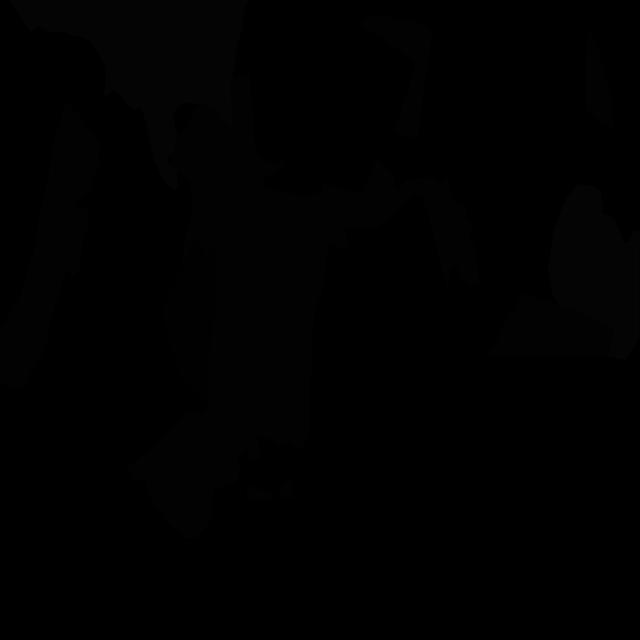cardboard: (127, 184, 334, 539), (0, 103, 101, 390), (166, 73, 286, 268), (320, 159, 480, 290), (358, 15, 432, 139), (488, 292, 614, 358), (585, 29, 614, 129), (64, 207, 89, 278), (246, 485, 271, 502), (279, 481, 294, 499)
rigid_plastic: (162, 243, 218, 405)
soft_plastic: (8, 0, 249, 189), (548, 184, 640, 361)
